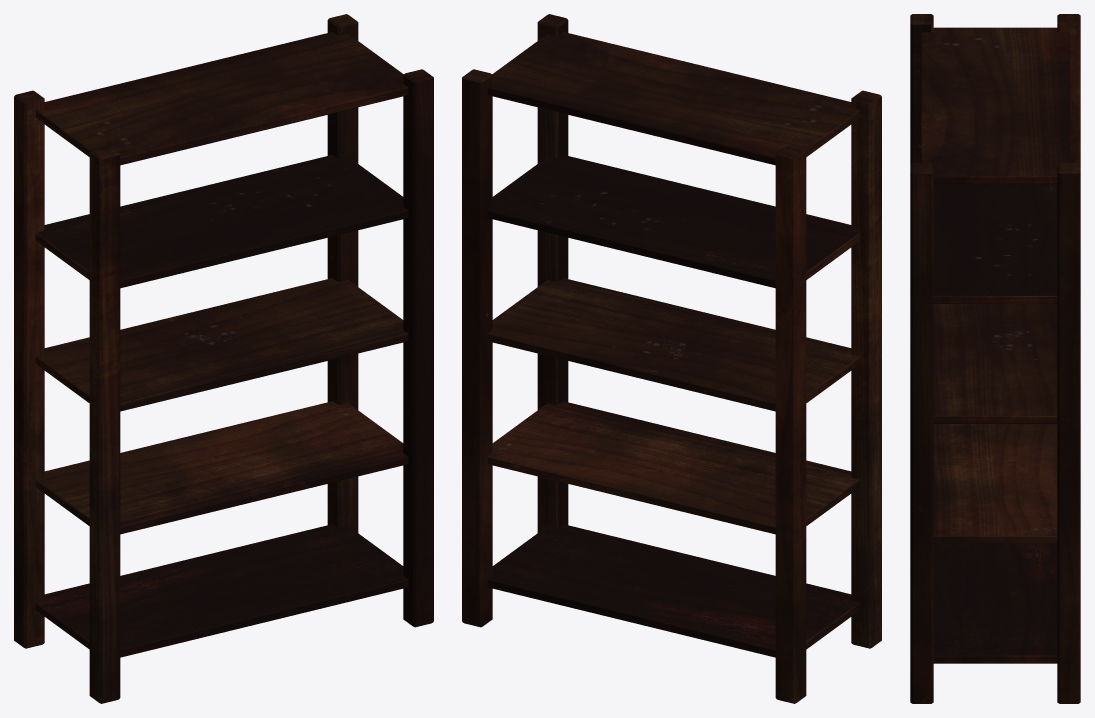
Rendered from Simple_Wooden_Shelf.glb.
3 views of the same model, side by side, from view 1: azimuth 30°, elevation 25°; view 2: azimuth 150°, elevation 25°; view 3: azimuth 270°, elevation 25° (orthographic). The views are drawn at different scales.
Parts seen in each view (by area): view 1: defaultMaterial; view 2: defaultMaterial; view 3: defaultMaterial.
Boxes of the visible parts, x1,y1,x2,y2 form: defaultMaterial: (14,14,433,703); defaultMaterial: (462,14,881,703); defaultMaterial: (910,14,1080,703).
Size of the model in its own units: 1.28 by 2 by 0.58.
1 material, 1 textured.
